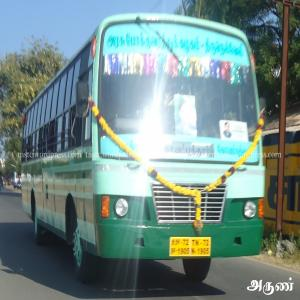Vehicle-registration-plate: (171, 237, 211, 257)
